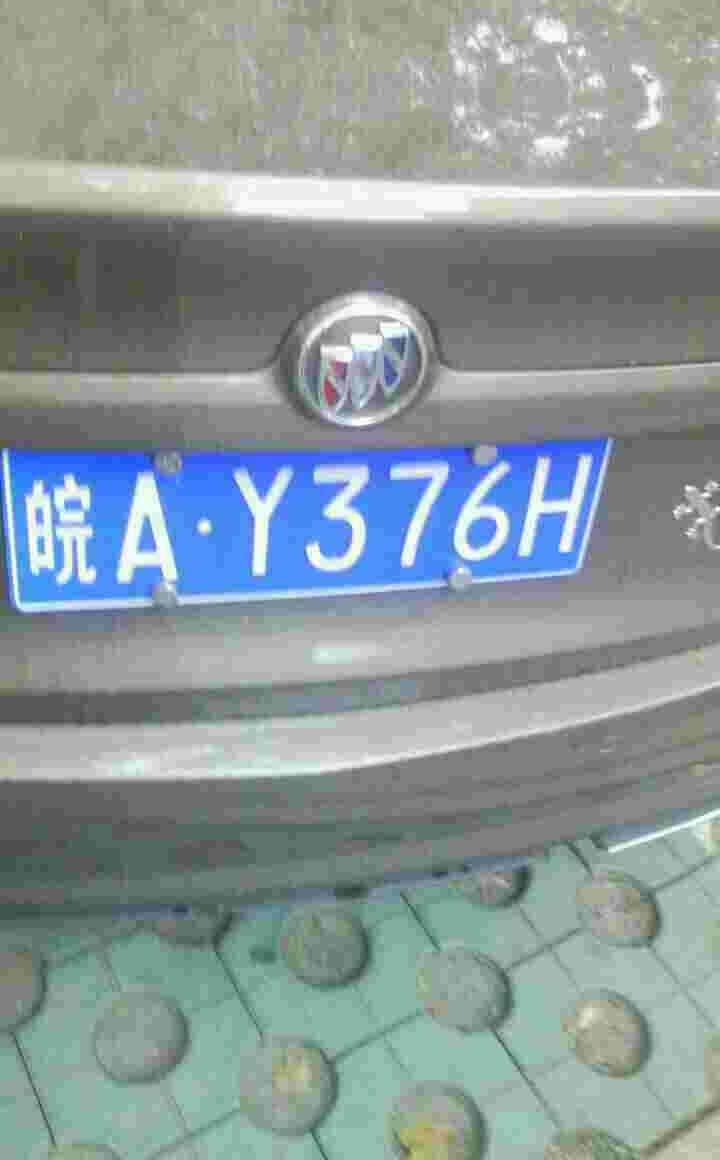car_blue: (3, 427, 638, 620)
